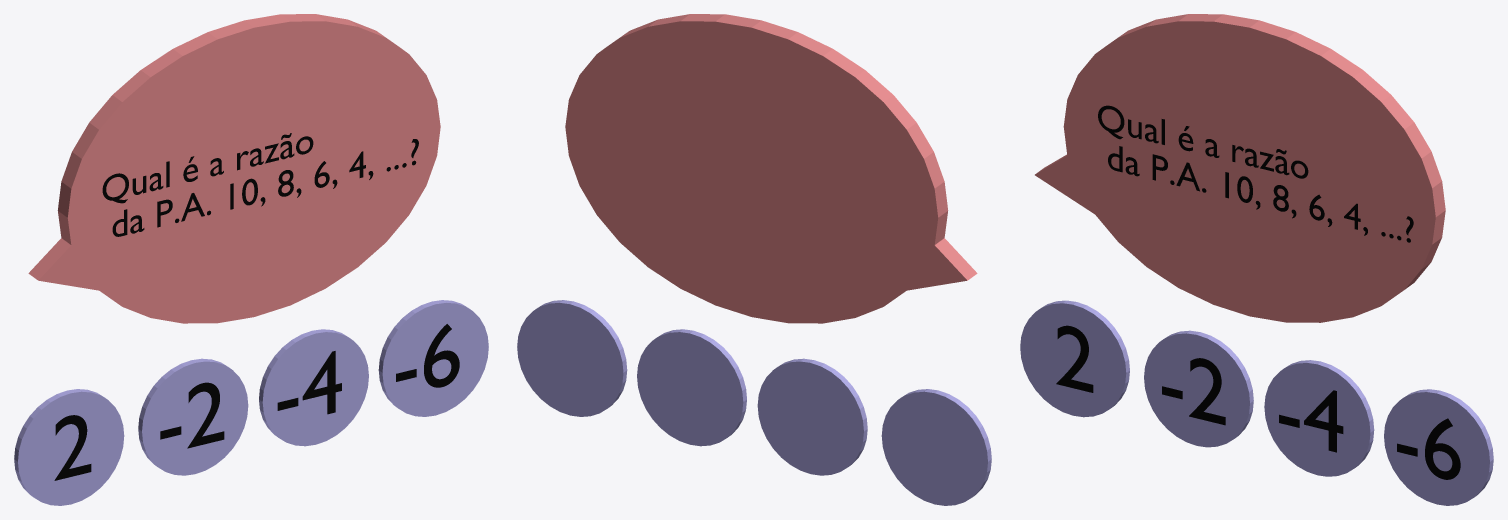
Rendered from 4PERGUNTA.fbx.
3 renders of one model, left to right at view 1: azimuth 30°, elevation 25°; view 2: azimuth 150°, elevation 25°; view 3: azimuth 330°, elevation 25°, orthographic.
Parts seen in each view (by area): view 1: 4PERGUNTA, D)-6, A)2, C)-4, B)-2crt; view 2: 4PERGUNTA, D)-6, A)2, C)-4, B)-2crt; view 3: 4PERGUNTA, D)-6, A)2, C)-4, B)-2crt.
Boxes of the visible parts, x1,y1,x2,y2 form: 4PERGUNTA: (28, 14, 440, 323); D)-6: (378, 300, 488, 416); A)2: (14, 389, 124, 505); C)-4: (259, 329, 368, 446); B)-2crt: (138, 358, 248, 475); 4PERGUNTA: (565, 14, 977, 323); D)-6: (517, 300, 627, 416); A)2: (881, 389, 991, 505); C)-4: (637, 329, 746, 446); B)-2crt: (757, 358, 867, 475); 4PERGUNTA: (1035, 14, 1445, 322); D)-6: (1384, 389, 1493, 505); A)2: (1020, 300, 1129, 417); C)-4: (1264, 360, 1374, 476); B)-2crt: (1144, 330, 1253, 447).
Size of the model in its own units: 253 by 223 by 9.47.
